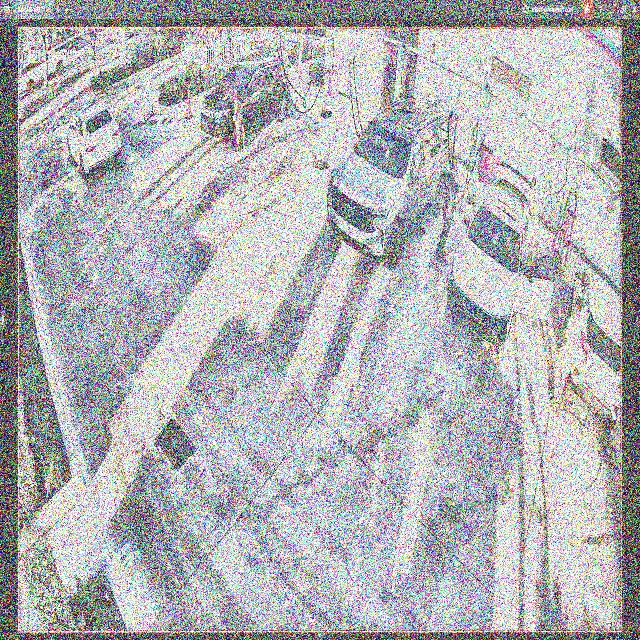Car: (328, 93, 454, 267), (450, 163, 552, 345), (203, 58, 290, 143)
